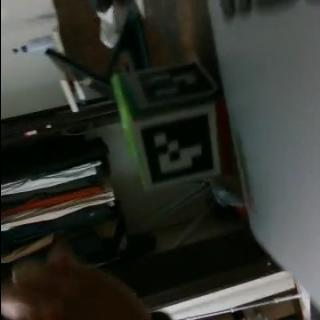armor: (130, 105, 222, 190), (126, 63, 218, 109)
robot: (110, 60, 230, 190)
